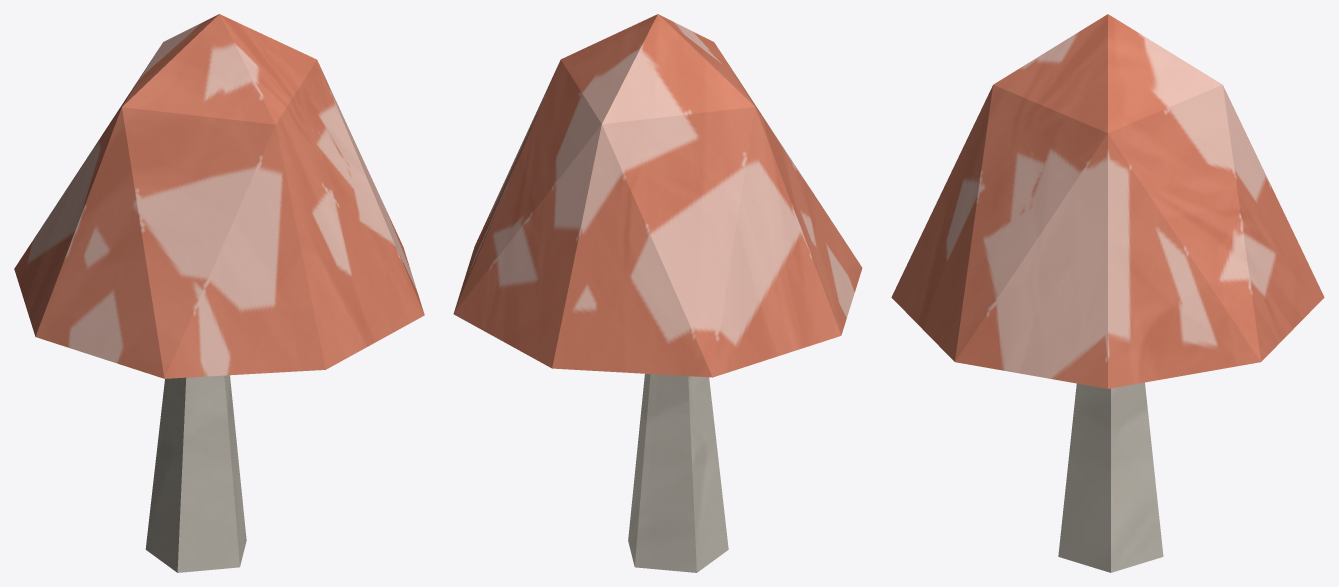
The model's file is mushroom.FBX.
3 views of the same model, side by side, from view 1: azimuth 30°, elevation 25°; view 2: azimuth 150°, elevation 25°; view 3: azimuth 270°, elevation 25° (orthographic). The views are drawn at different scales.
Parts seen in each view (by area): view 1: Cylinder004; view 2: Cylinder004; view 3: Cylinder004.
Boxes of the visible parts, left/top/right/bottom form: Cylinder004: left=14, top=14, right=424, bottom=572; Cylinder004: left=453, top=14, right=862, bottom=572; Cylinder004: left=891, top=14, right=1324, bottom=572.
Size of the model in its own units: 28.14 by 39.04 by 28.14.
1 material, 1 textured.
